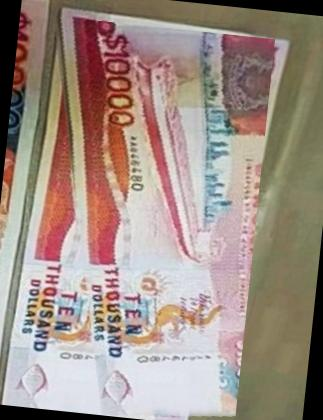10000SingaporeDollar: (11, 15, 274, 420)
